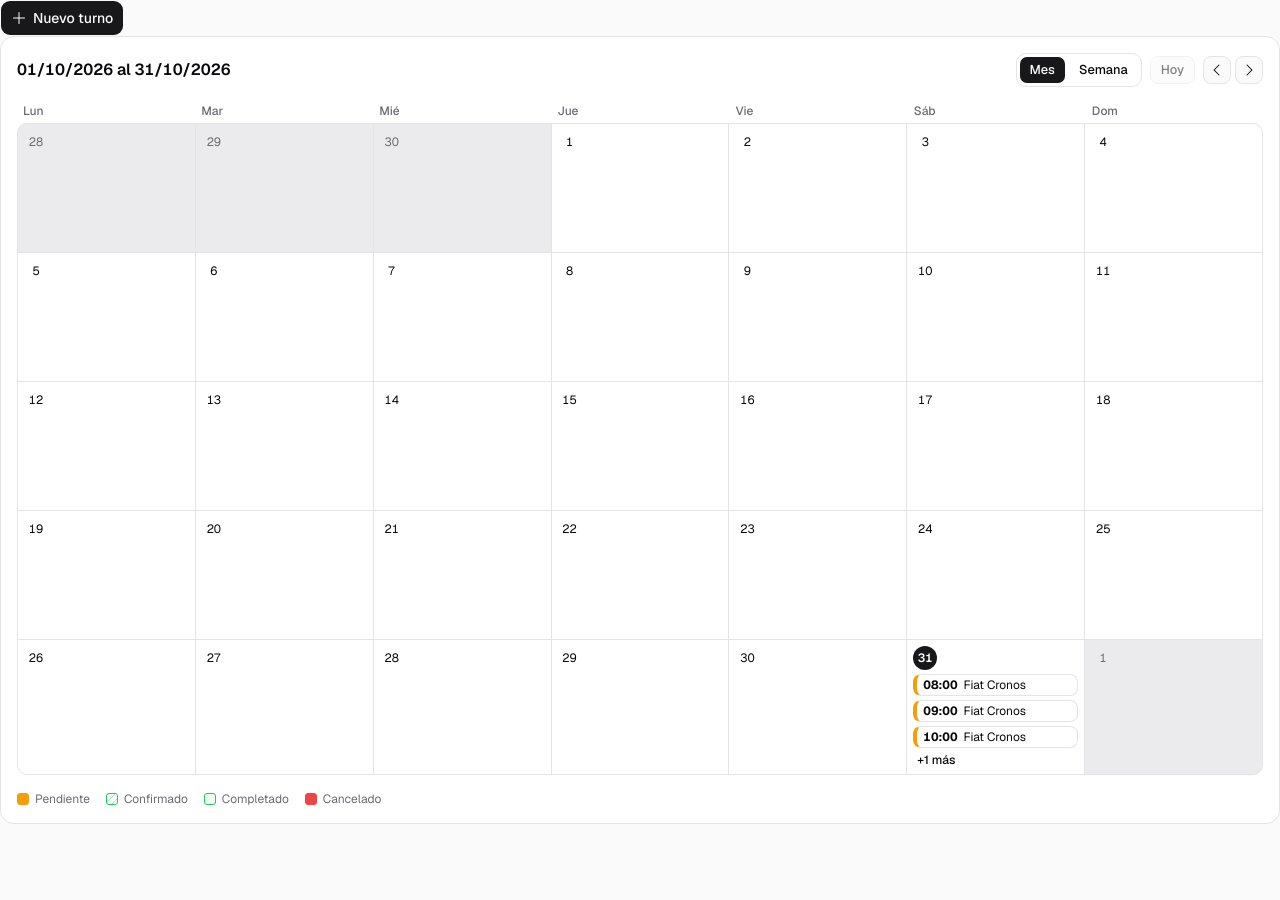
Scenario: AppointmentsCalendar crowded day › does not open the popover when the appointment came from the day itself
The image size is (1280, 900).
Click the button "08:00 Fiat Cronos" at (996, 685), box left=913, top=674, right=1078, bottom=696
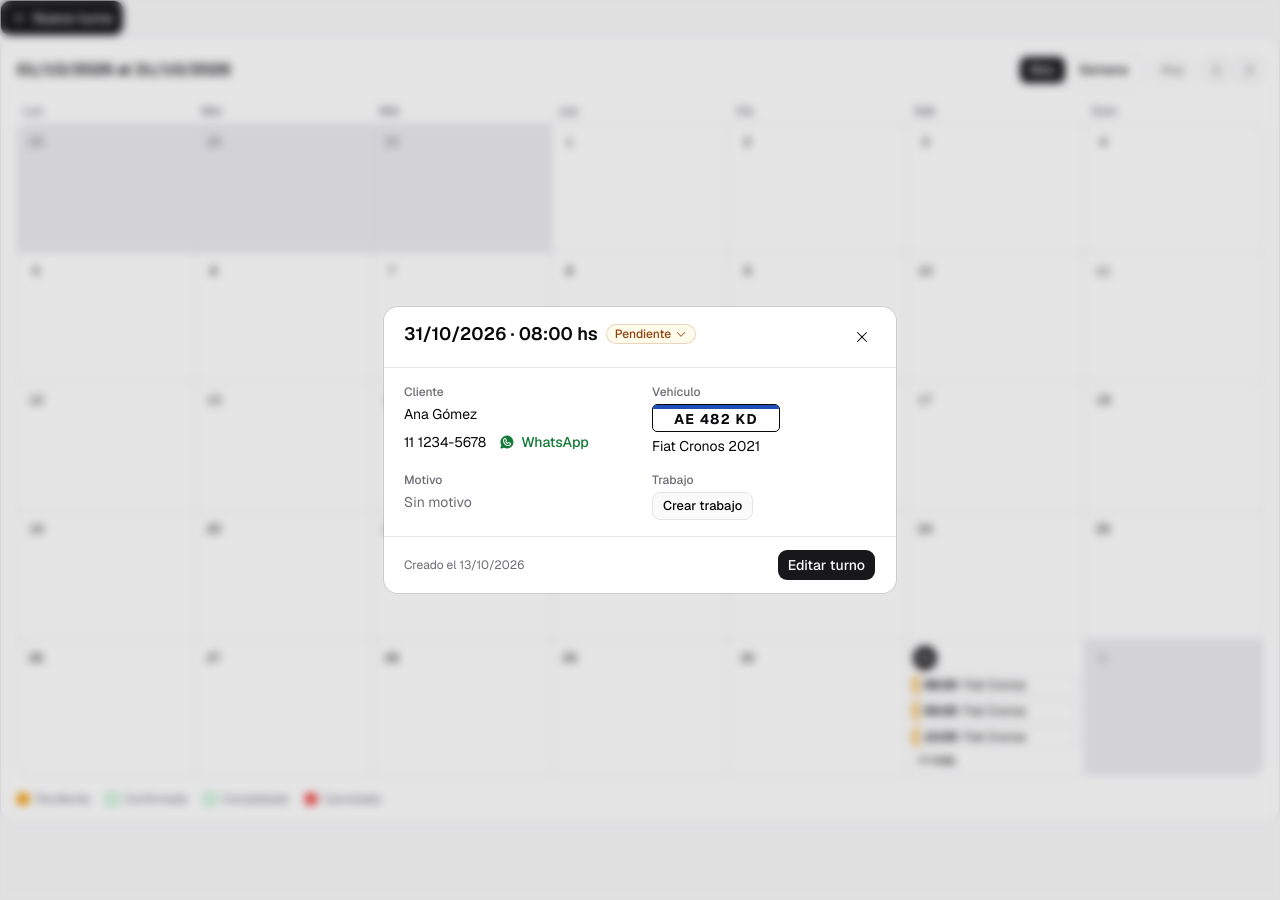
Click the button named "Cerrar" at (862, 337), box left=848, top=323, right=876, bottom=351
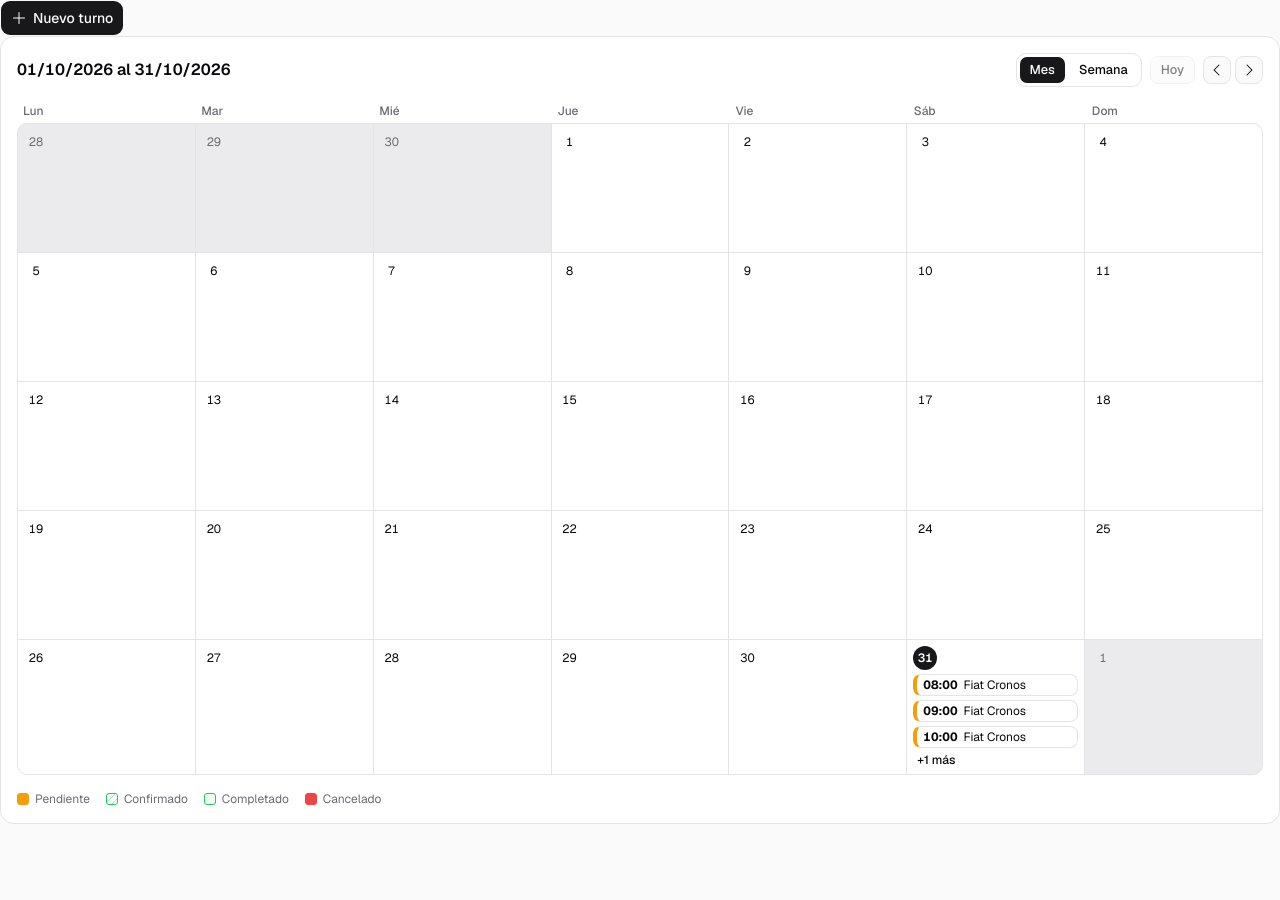
Now the heading "· 08:00 hs" is gone
